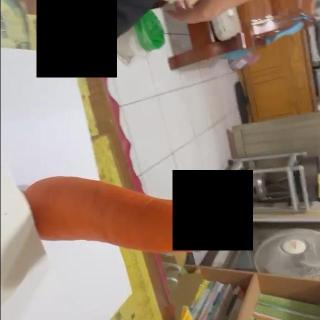carrot: (22, 174, 220, 254)
